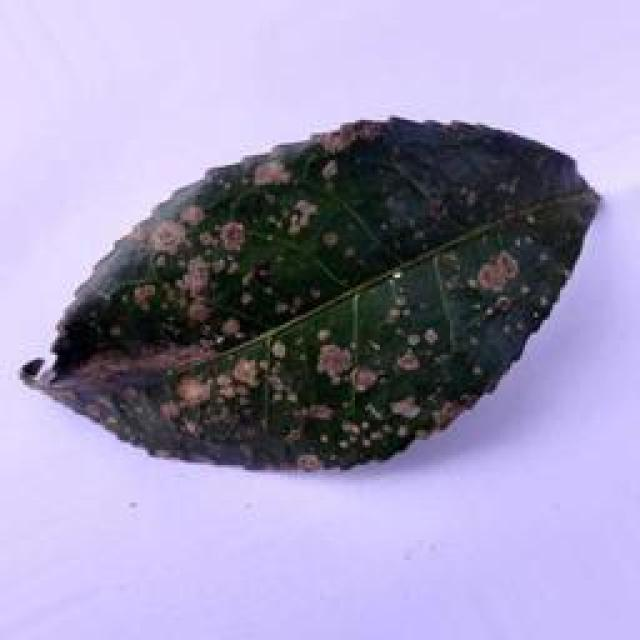Algal Leaf Spot: (31, 107, 576, 490)
